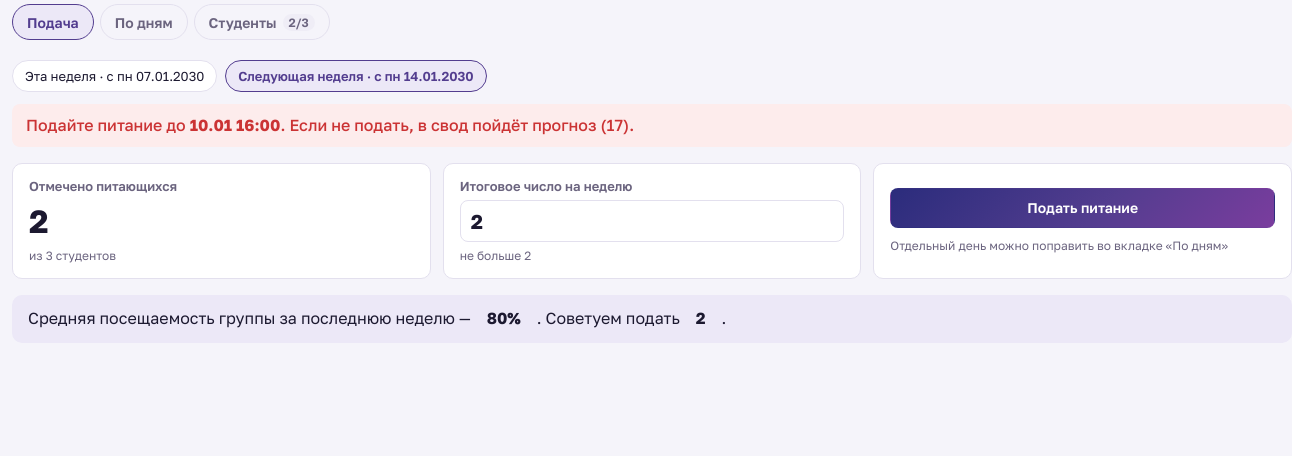
GroupMealsPanel — куратор › в списке студентов работают поиск и фильтр «Не питаются»
Step 1. Click the tab "Студенты 2/3" → (262, 22), box [194, 4, 330, 40]
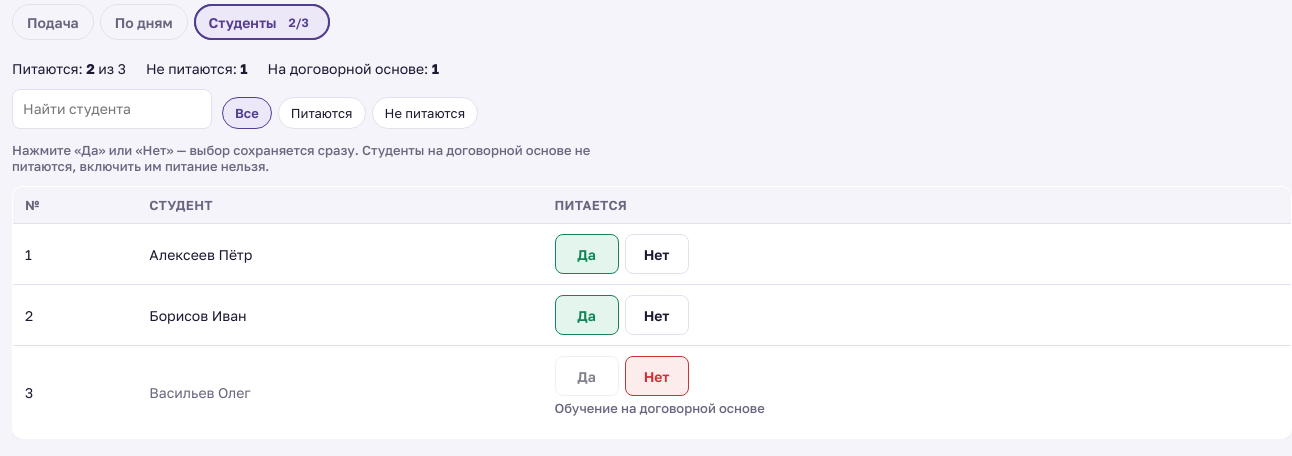
Step 2. Type "Борис" into the search field named "Поиск студента" → (112, 109), box [12, 89, 212, 129]
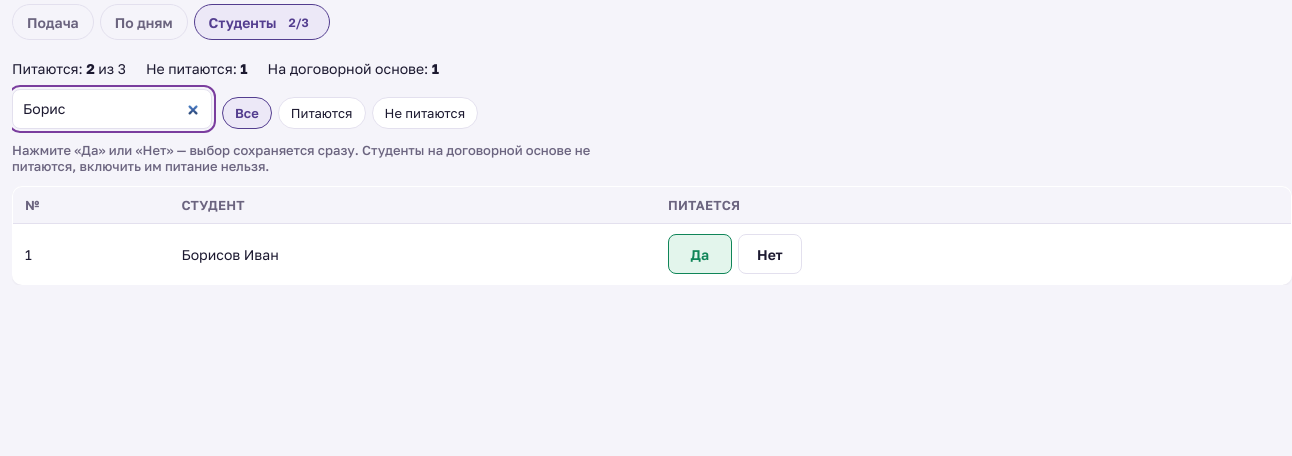
Now the text "Борисов Иван" is shown, box [169, 224, 656, 284]
Now the text "Алексеев Пётр" is gone
Step 3. Clear the search field named "Поиск студента" → (112, 109), box [12, 89, 212, 129]
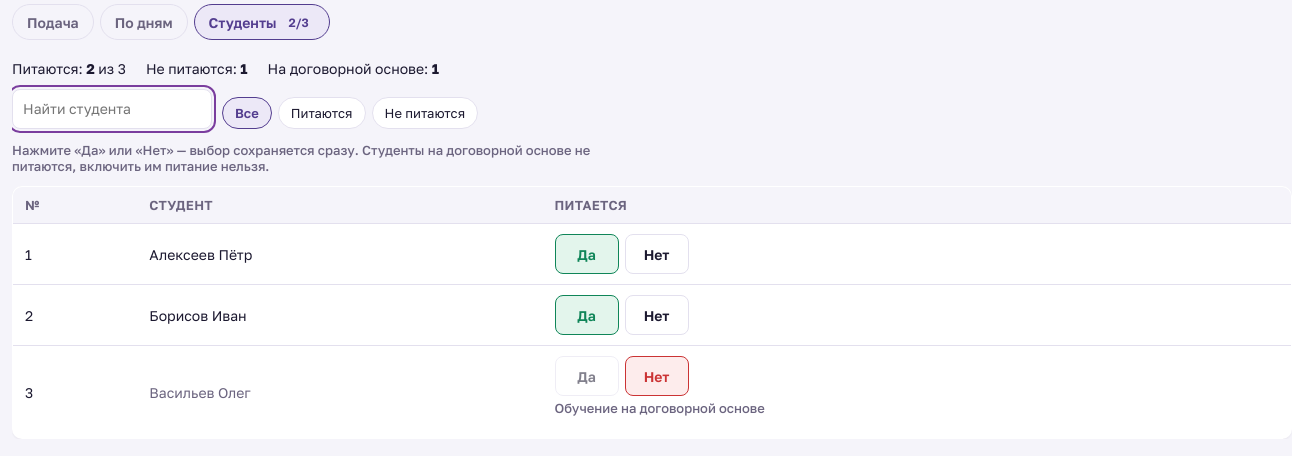
Step 4. Click the button "Не питаются" → (425, 113), box [372, 97, 478, 129]
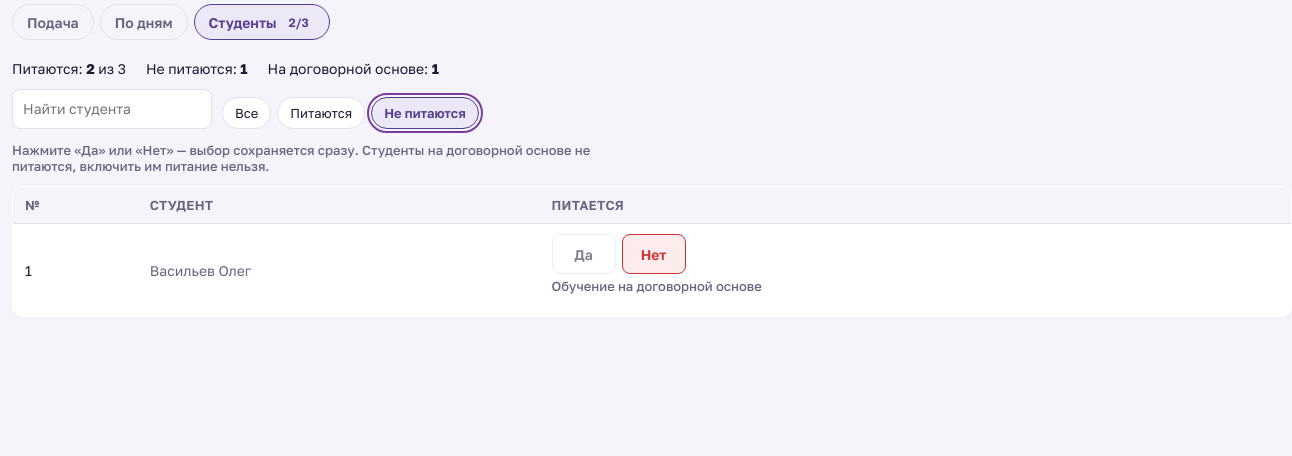
Now the text "Васильев Олег" is shown, box [138, 224, 540, 316]
Now the text "Алексеев Пётр" is gone
